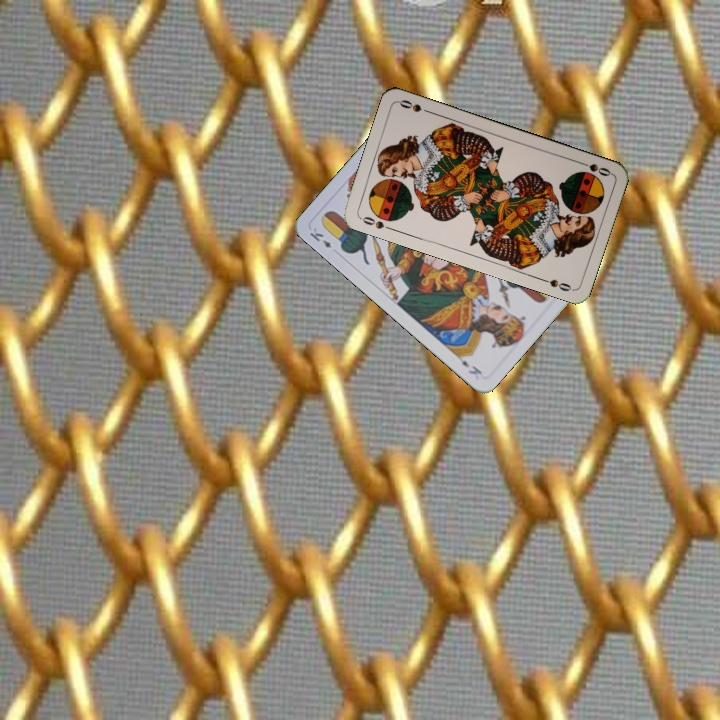EK: (306, 223, 334, 251)
SO: (574, 157, 613, 179), (356, 212, 396, 233)
